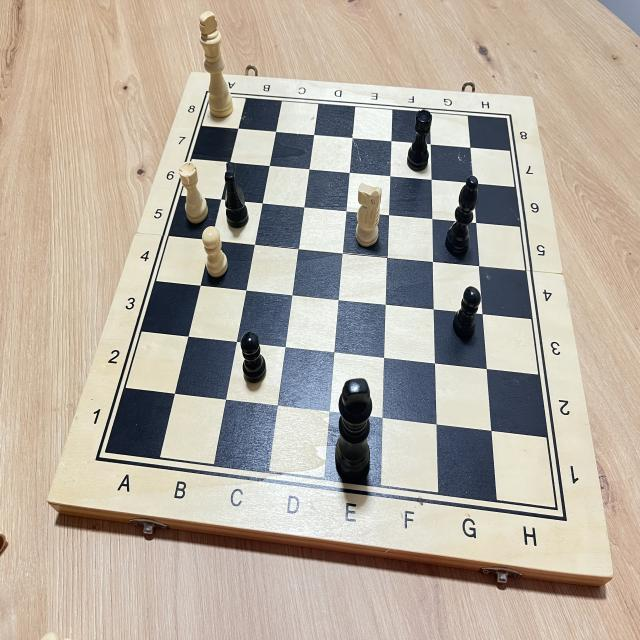black-bishop: (443, 170, 485, 266)
black-king: (326, 361, 384, 497)
black-knight: (216, 159, 251, 229)
black-pawn: (235, 326, 269, 390), (449, 288, 484, 348)
black-rook: (404, 104, 440, 180)
white-king: (193, 6, 236, 120)
white-knight: (348, 176, 386, 254)
white-pawn: (196, 221, 234, 285)
white-rook: (174, 156, 209, 236)
